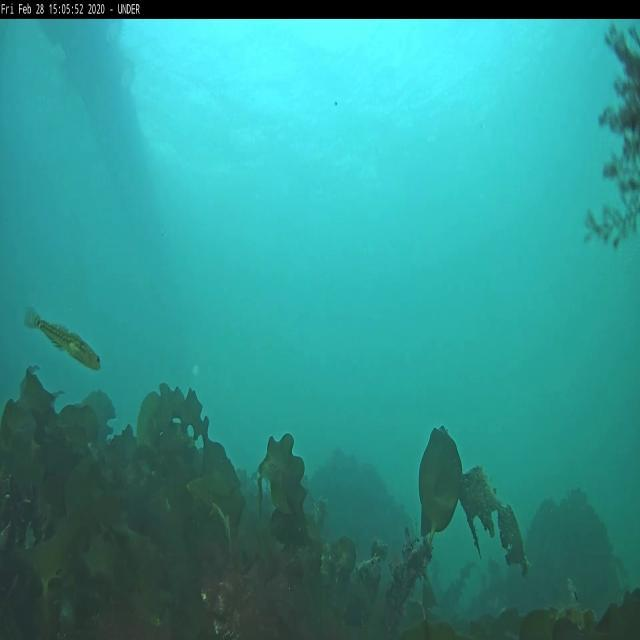fish: (26, 308, 100, 369)
